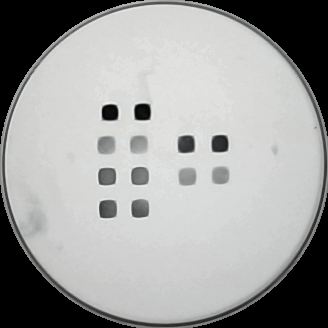检查点: (128, 133, 151, 156), (175, 134, 199, 155), (210, 133, 231, 155), (129, 166, 151, 187), (97, 166, 118, 188), (96, 135, 117, 156), (99, 102, 121, 122), (210, 166, 231, 186), (177, 167, 199, 186), (131, 199, 151, 219), (99, 199, 118, 220), (133, 103, 153, 122)
